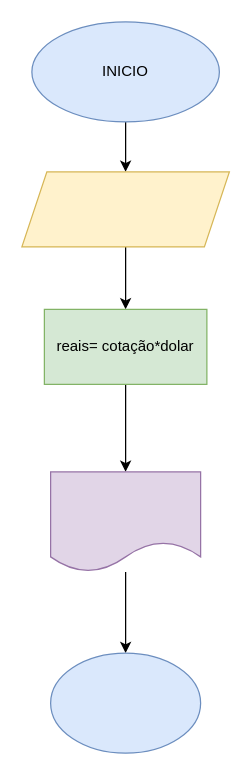
This 251x775 diagram has some shape labels left out. The shapes that lost their labels are listed below. From the top down, each one's centre as x and y in pixels, then its label:
At point (125, 209): "Reais, Dolar".
At point (125, 521): "Reais".
